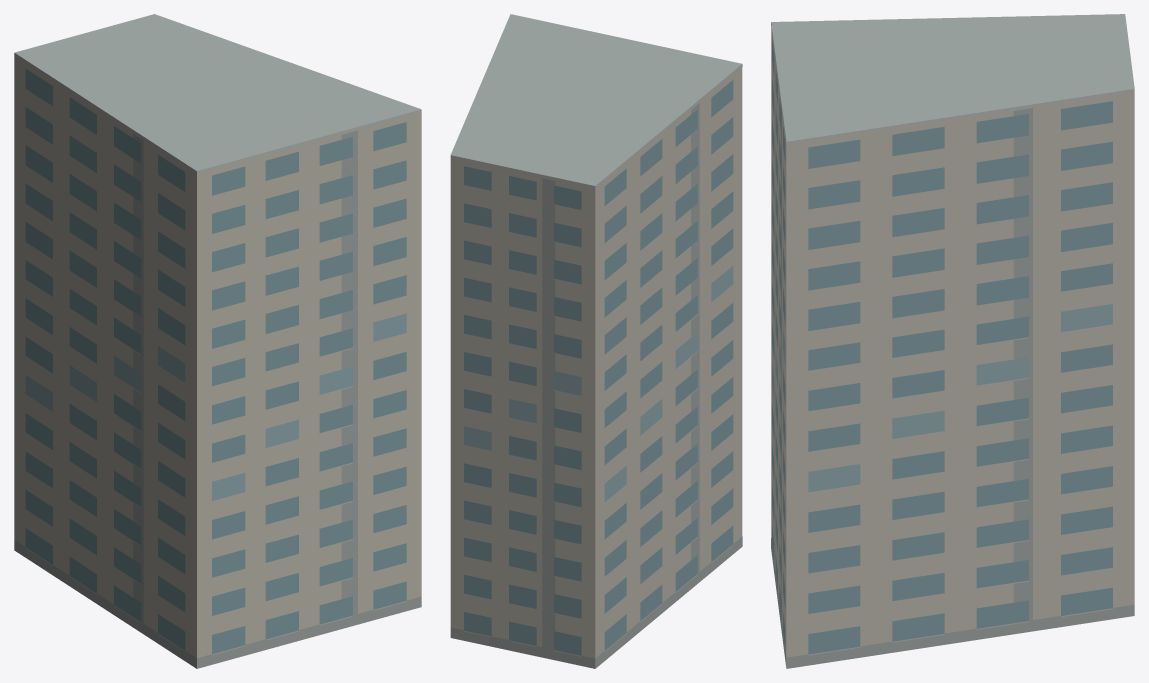
File: residential-f596dda0-f0c5-4ef3-b935-7a00189188ff.glb
The picture shows the model from 3 angles, left to right: view 1: azimuth 30°, elevation 25°; view 2: azimuth 150°, elevation 25°; view 3: azimuth 270°, elevation 25°; orthographic projection. The views are drawn at different scales.
Parts seen in each view (by area): view 1: residential-f596dda0-f0c5-4ef3-b935-7a00189188ff.tmp; view 2: residential-f596dda0-f0c5-4ef3-b935-7a00189188ff.tmp; view 3: residential-f596dda0-f0c5-4ef3-b935-7a00189188ff.tmp.
Part boxes in pixels (left/top/right/bottom): residential-f596dda0-f0c5-4ef3-b935-7a00189188ff.tmp: left=14, top=14, right=421, bottom=668; residential-f596dda0-f0c5-4ef3-b935-7a00189188ff.tmp: left=450, top=14, right=742, bottom=668; residential-f596dda0-f0c5-4ef3-b935-7a00189188ff.tmp: left=771, top=14, right=1134, bottom=668.
Bounding box in the file's own units: 17.69 × 34 × 21.26.
